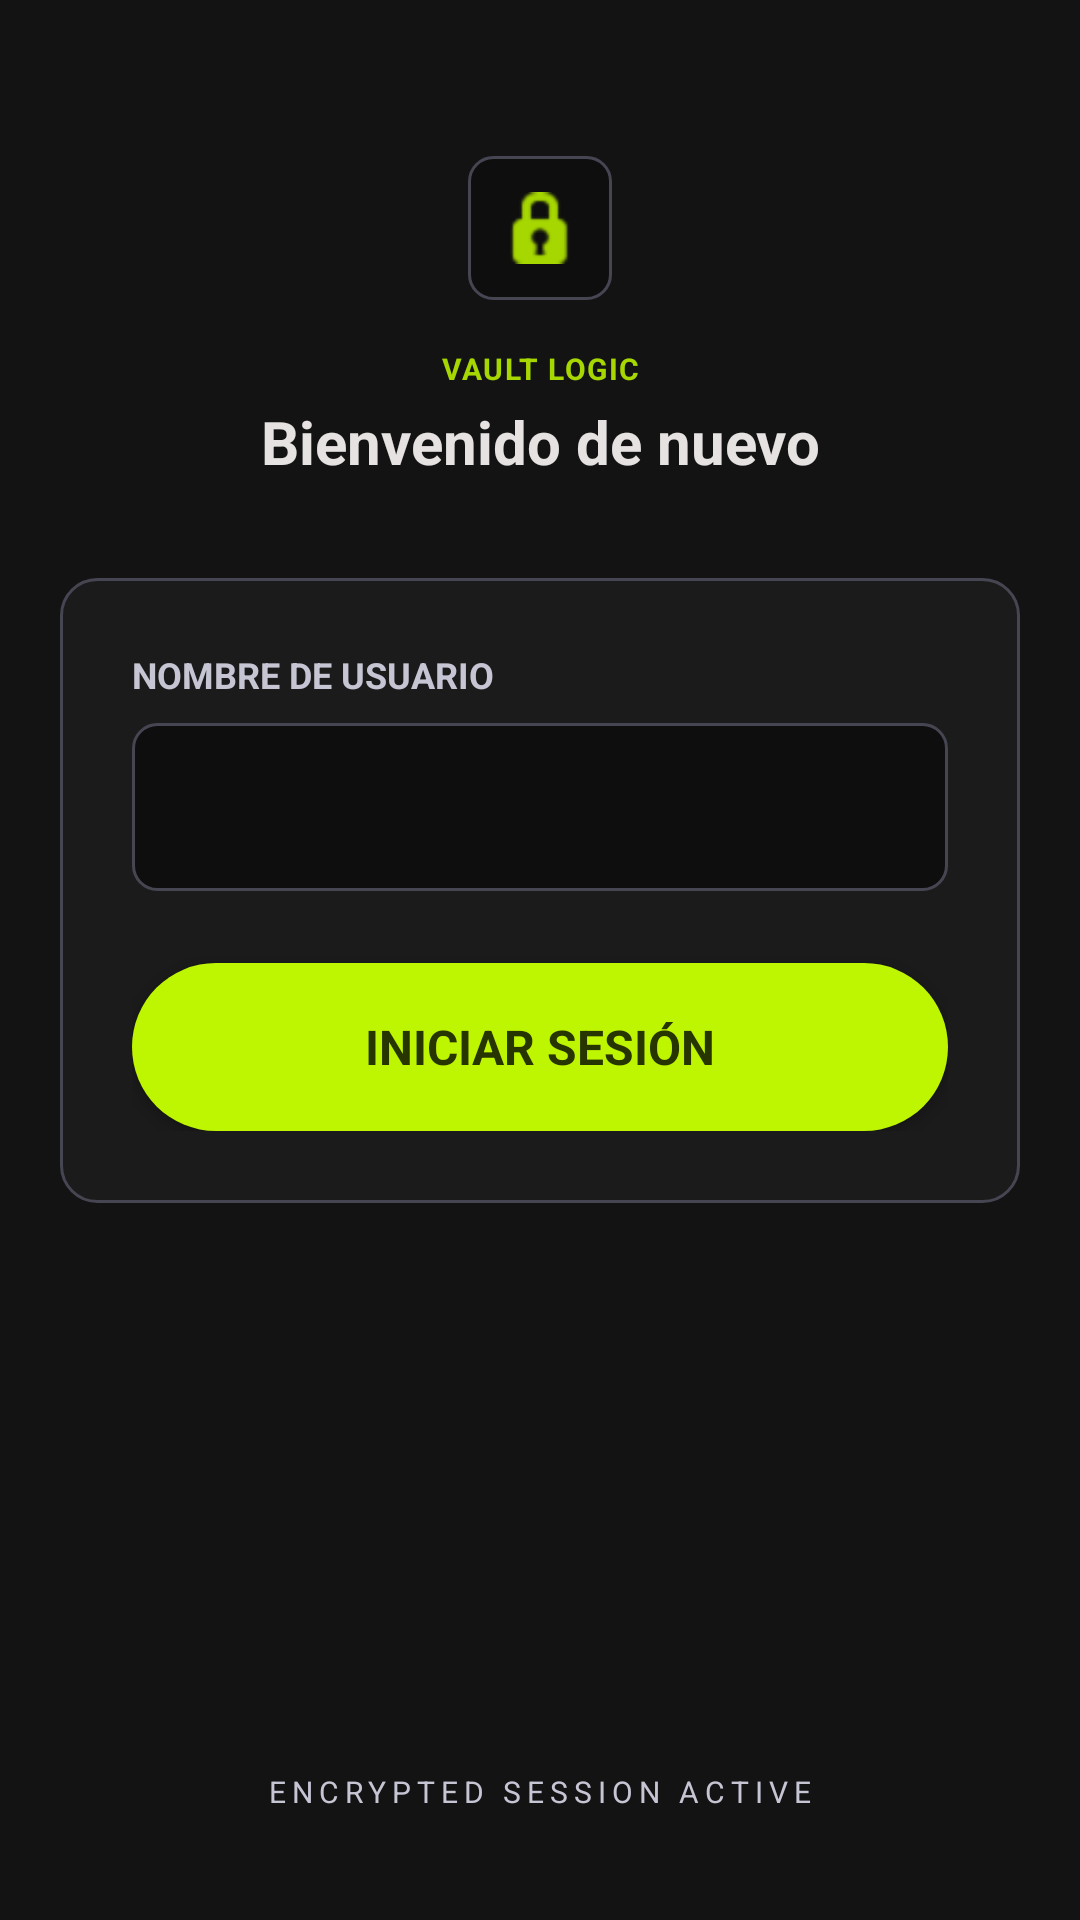

Point at icon controls on the screen. Image size 1080px x 1920px, points as [x,y].
secure: [540,228]
